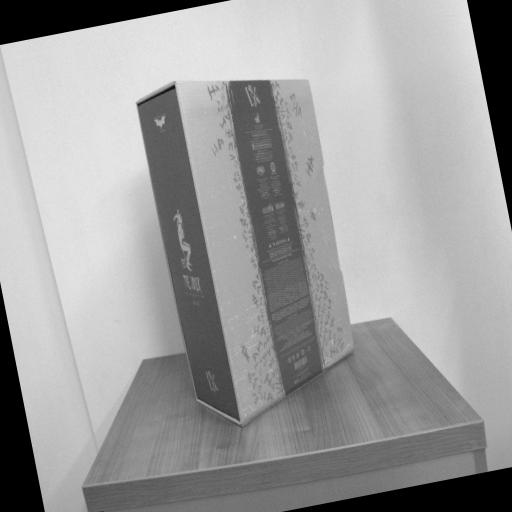Joker: (130, 56, 374, 432)
